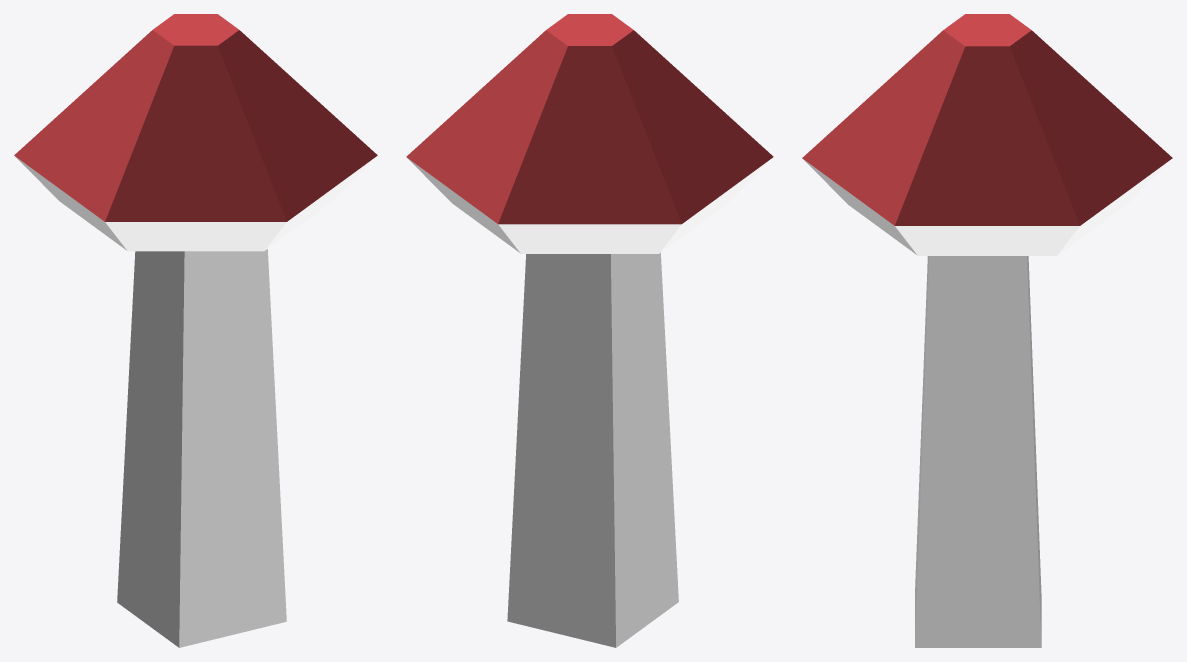
The model's file is mushroom_redTall.obj.
3 views of the same model, side by side, from view 1: azimuth 30°, elevation 25°; view 2: azimuth 150°, elevation 25°; view 3: azimuth 270°, elevation 25° (orthographic).
Parts seen in each view (by area): view 1: mushroom_redTall; view 2: mushroom_redTall; view 3: mushroom_redTall.
Boxes of the visible parts, x1=… form: mushroom_redTall: x1=14, y1=14, x2=377, y2=647; mushroom_redTall: x1=406, y1=14, x2=773, y2=647; mushroom_redTall: x1=802, y1=14, x2=1172, y2=647.
Size of the model in its own units: 1.24 by 2.5 by 1.43.
